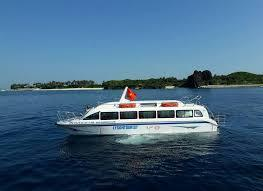Ship: (58, 88, 219, 136)
